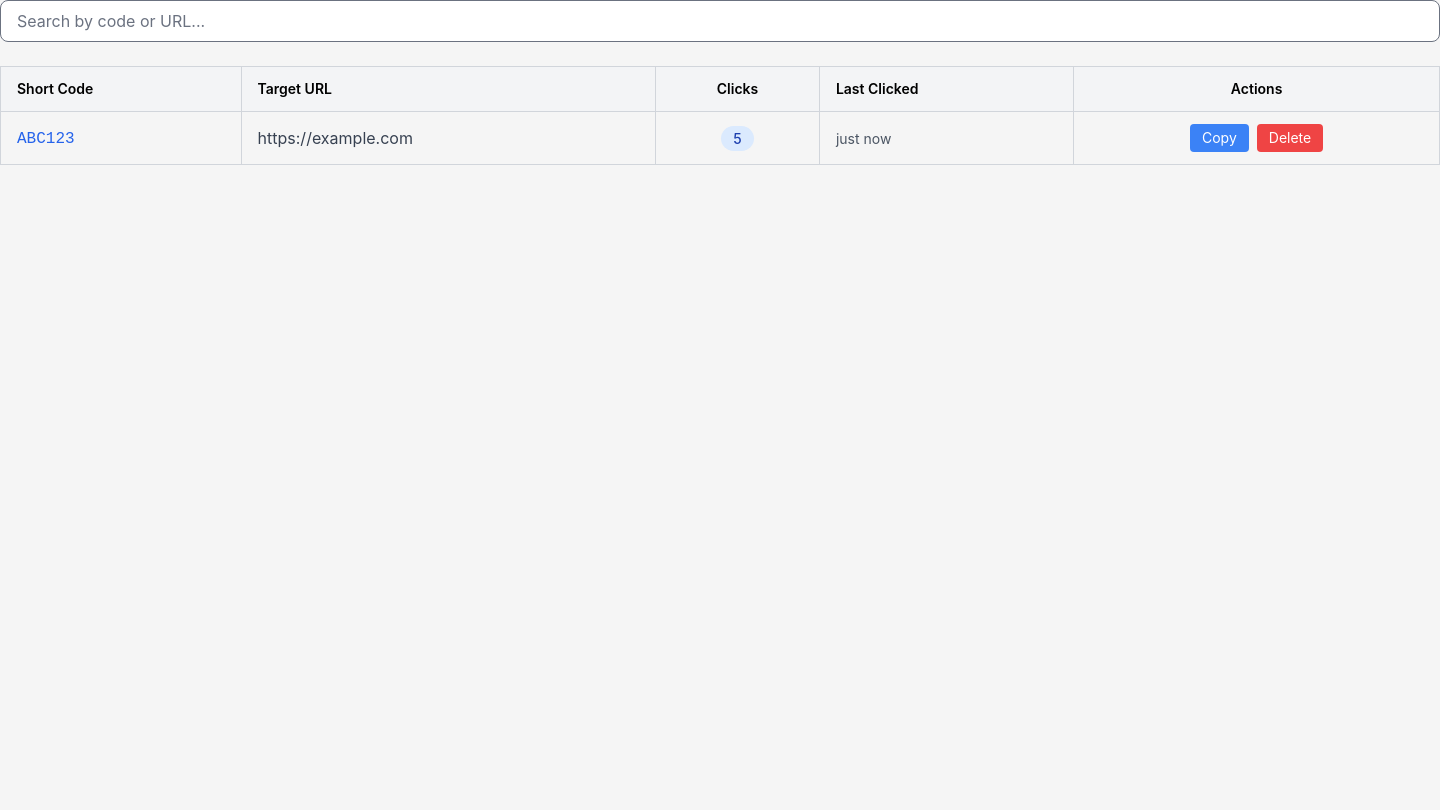
Test: LinkTable Component › should open delete modal when delete button clicked
Click the button "Delete" at (1290, 138), box [1257, 124, 1323, 152]
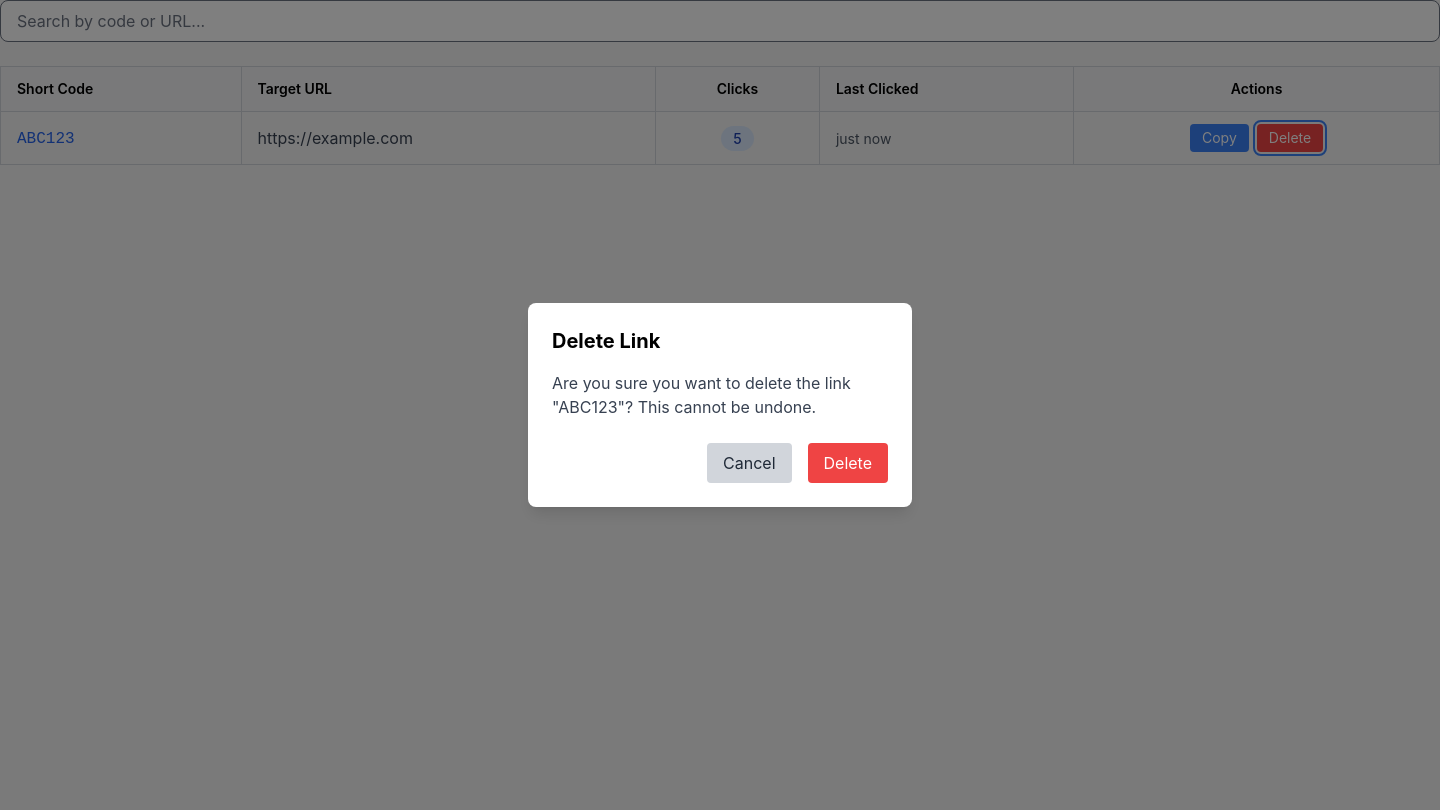
Now the heading "Delete Link" is shown, box [552, 329, 660, 353]
